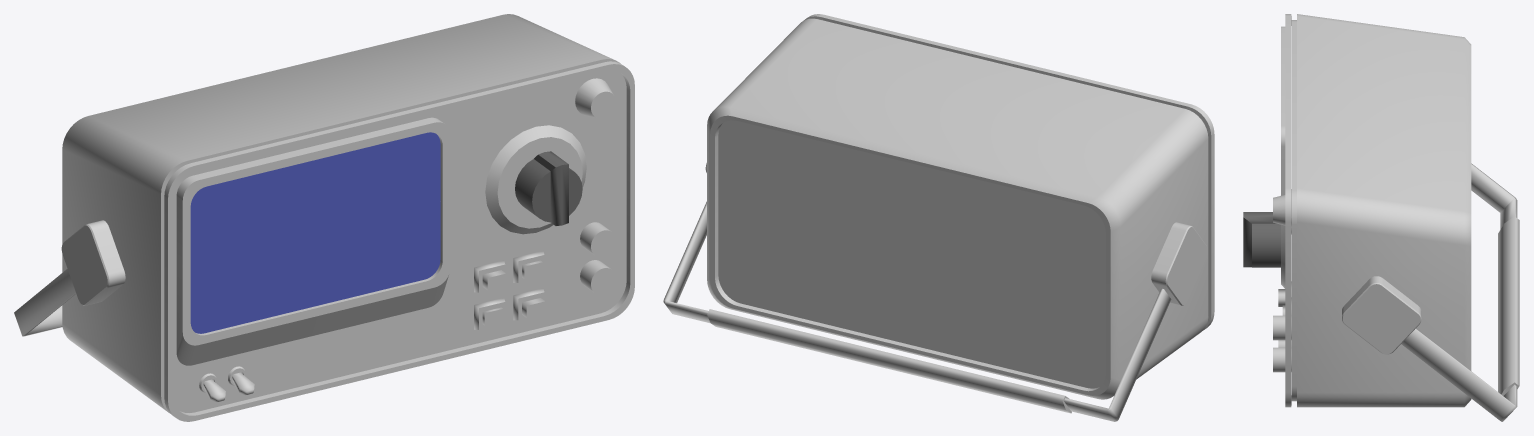
Rendered from oscilloscope.fbx.
The picture shows the model from 3 angles, left to right: view 1: azimuth 30°, elevation 25°; view 2: azimuth 150°, elevation 25°; view 3: azimuth 270°, elevation 25°; orthographic projection. The views are drawn at different scales.
Parts seen in each view (by area): view 1: Oscilloscope, Screen, Knob; view 2: Oscilloscope; view 3: Oscilloscope, Knob.
Boxes of the visible parts, x1,y1,x2,y2 form: Oscilloscope: [14, 14, 634, 421]; Screen: [190, 132, 440, 333]; Knob: [515, 151, 582, 225]; Oscilloscope: [663, 14, 1214, 421]; Oscilloscope: [1273, 14, 1519, 421]; Knob: [1243, 212, 1280, 267].
Size of the model in its own units: 3304 by 1558 by 1787.
